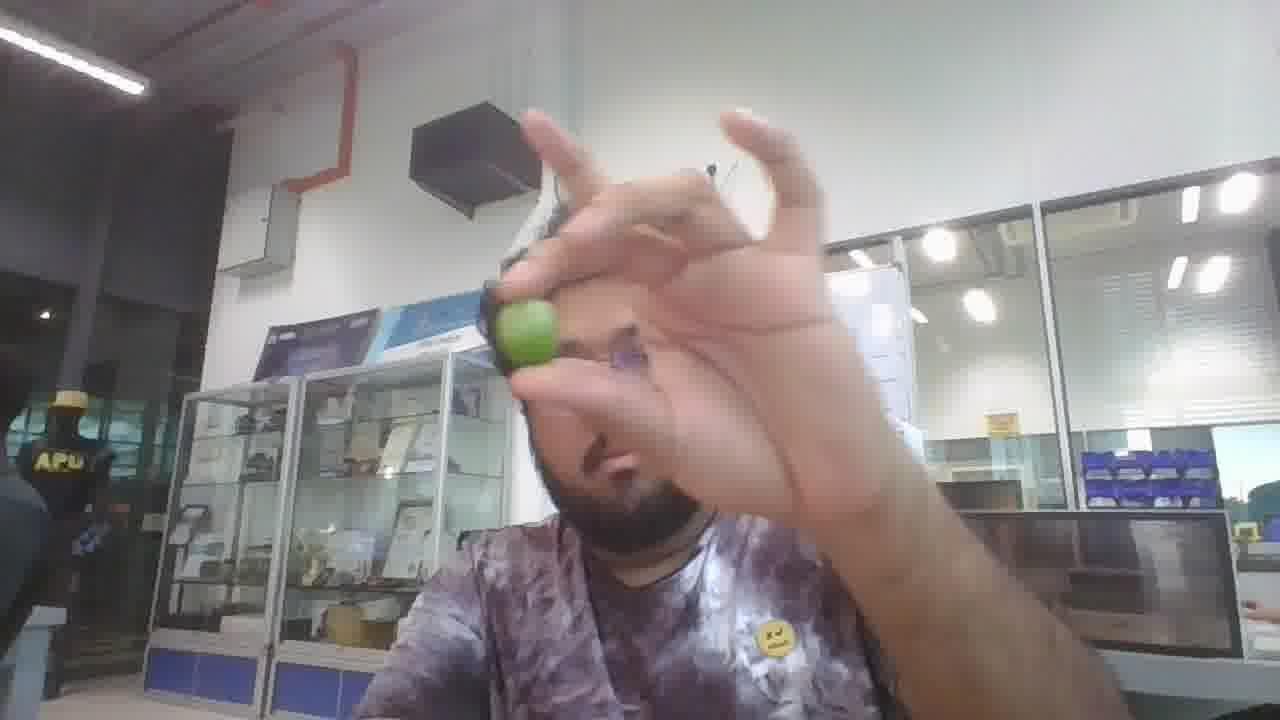green_cherry_tomato: (490, 300, 557, 368)
